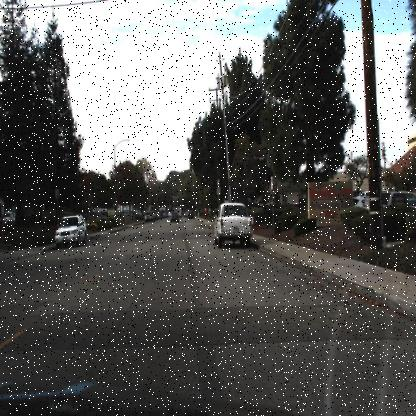car: (212, 199, 254, 250), (54, 211, 85, 249), (168, 208, 182, 227), (140, 208, 155, 224)
